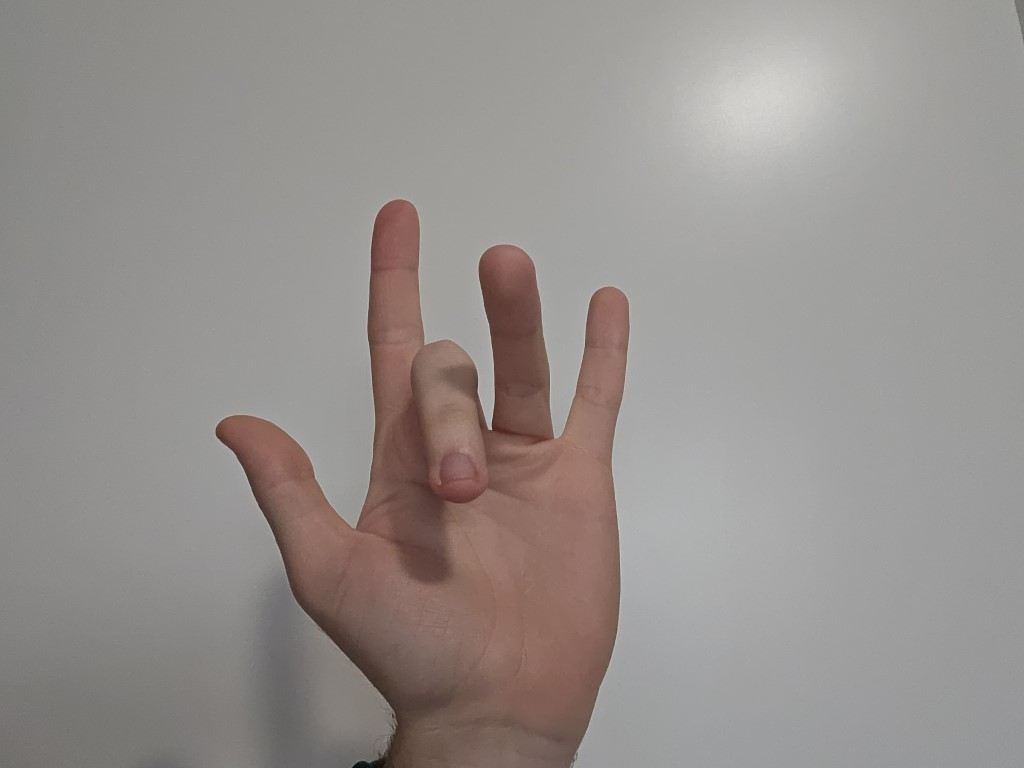reset: (129, 176, 732, 719)
